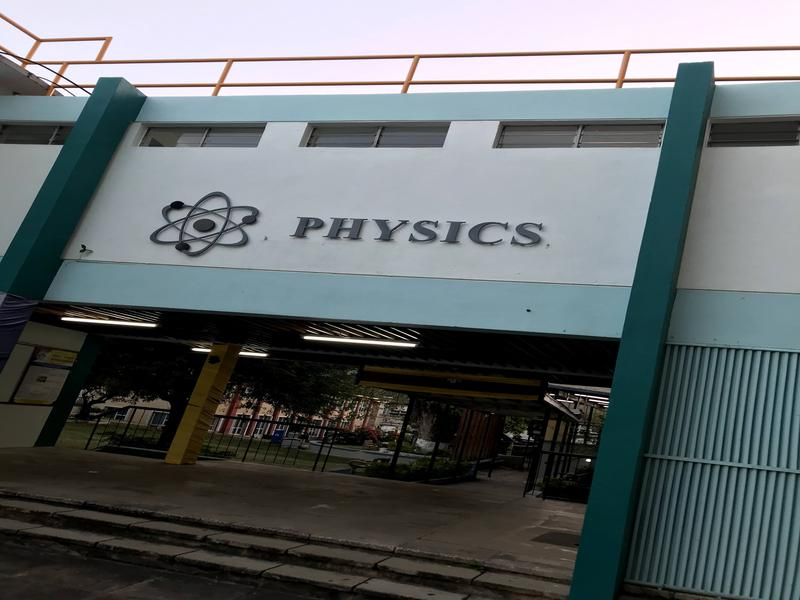18.0053657_-76.7491452_physicssign: (148, 179, 567, 276)
